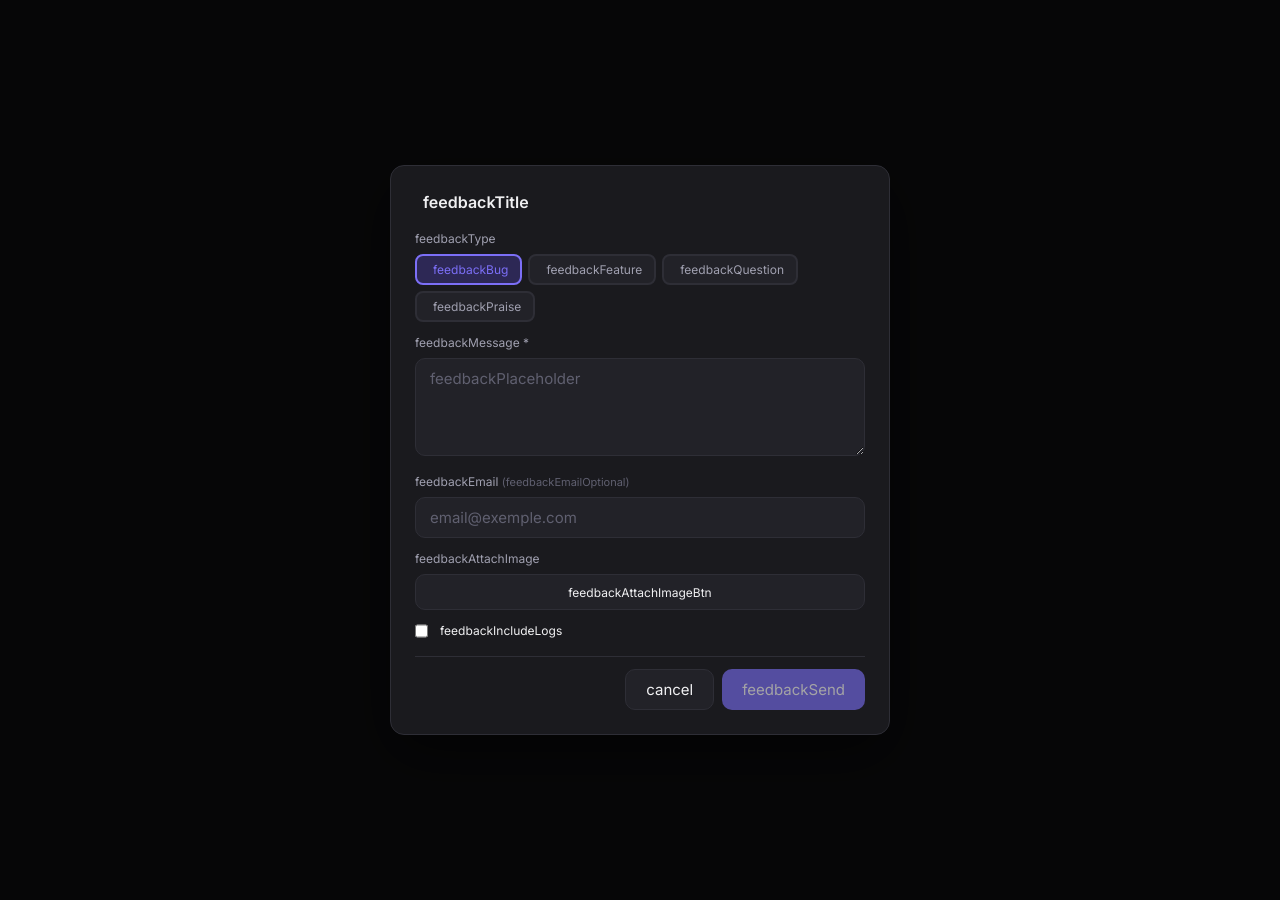
Scenario: FeedbackModal > Pièce jointe image › erreur si readFileBase64 échoue
Click the button "feedbackAttachImageBtn".
click(640, 592)  # box [415,574,865,610]
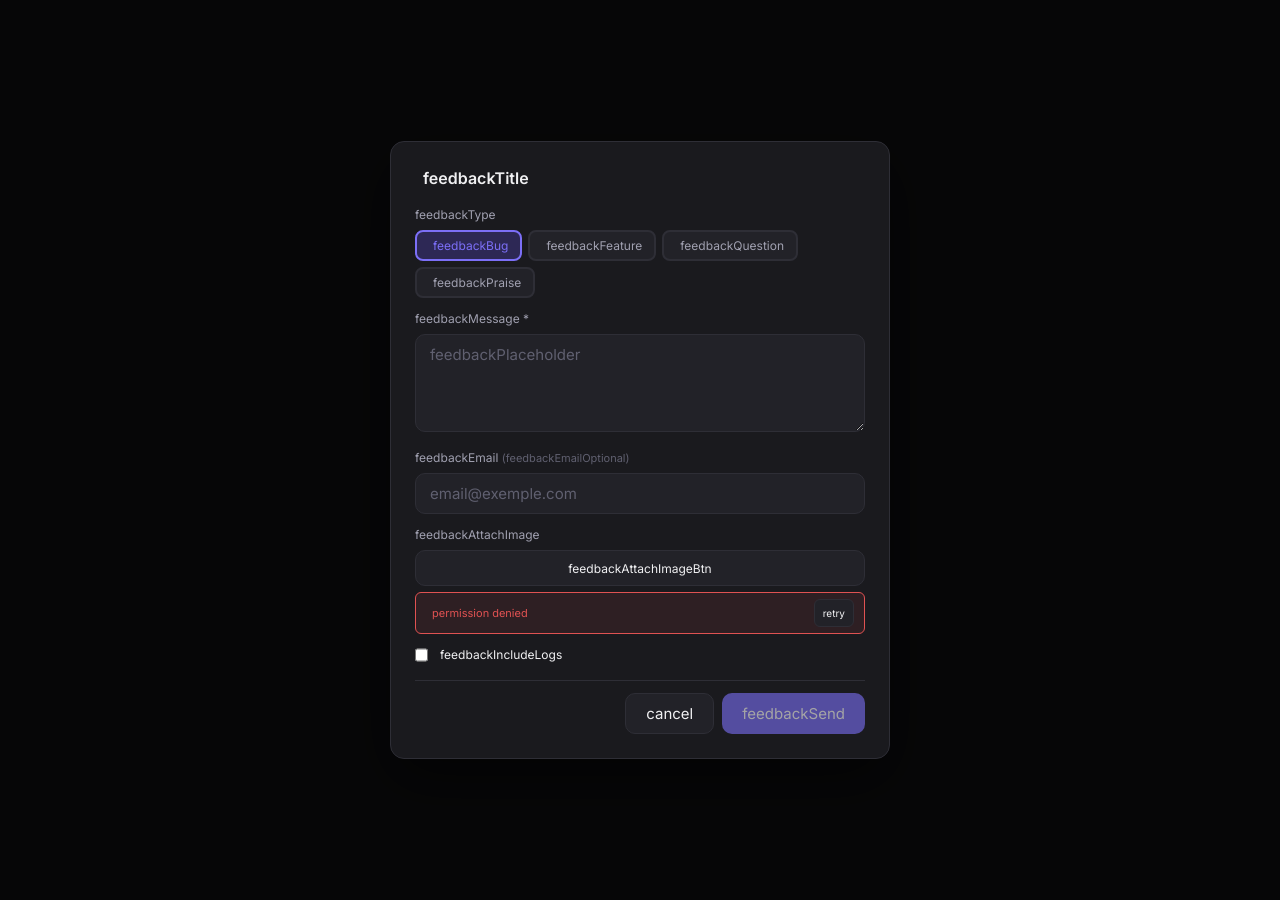
Expected: the text "permission denied" is shown, [432,606,528,620]
